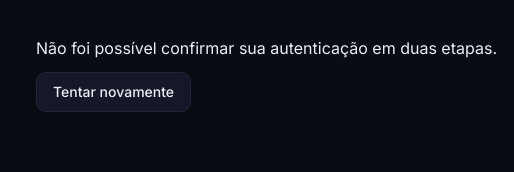
Scenario: MFA administrativo › mantém a administração bloqueada em falha de consulta e repete a verificação do guard
Expected: the message "Não foi possível confirmar sua autenticação em duas etapas. Tentar novamente" is shown, [36,38,497,112]
Click the button "Tentar novamente".
click(114, 92)  # box [36,72,191,112]
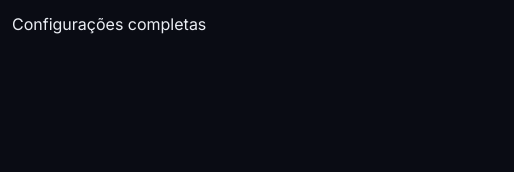
Now the text "Configurações completas" is shown, box [12,14,206,34]
